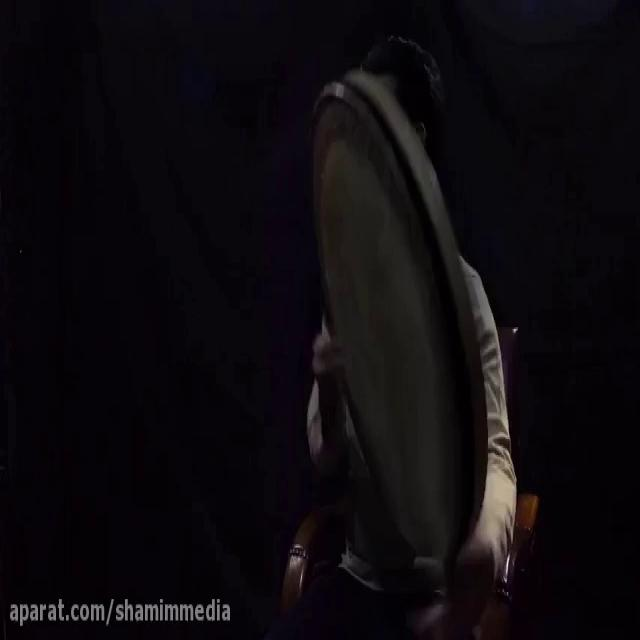Daf: (298, 65, 497, 587)
